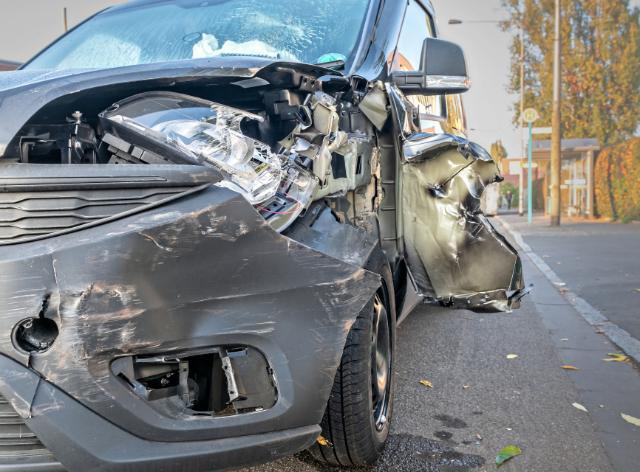Bumper: (32, 249, 292, 451)
Light: (81, 99, 305, 218), (295, 139, 397, 296)
